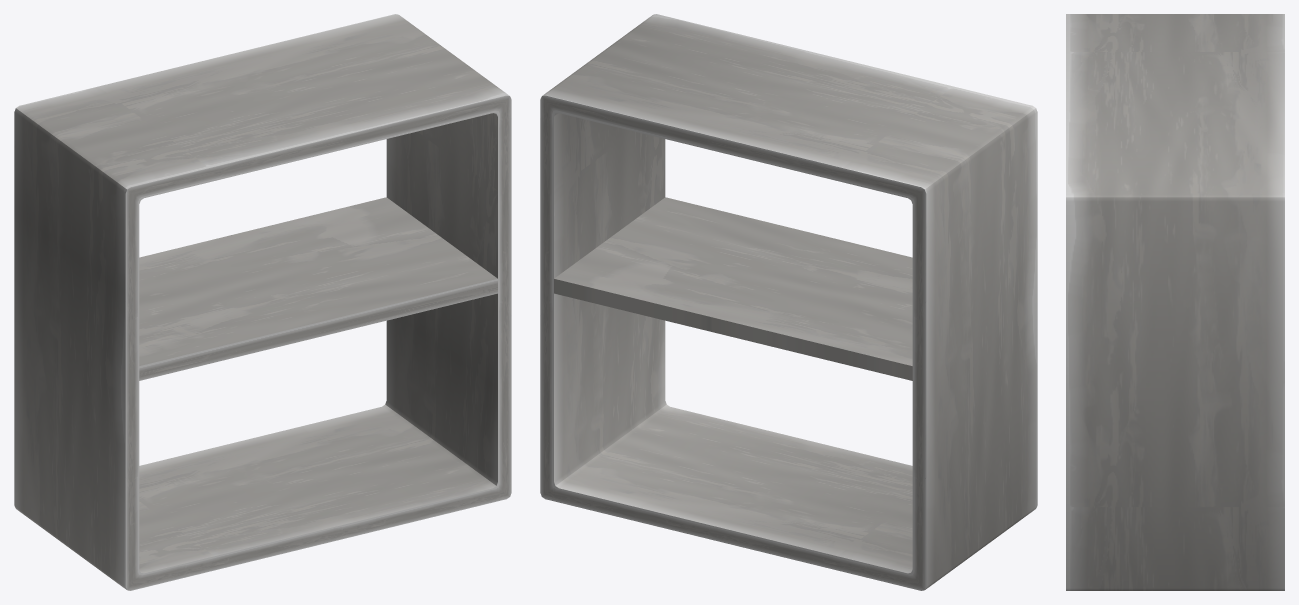
File: Kallax.fbx
3 views of the same model, side by side, from view 1: azimuth 30°, elevation 25°; view 2: azimuth 150°, elevation 25°; view 3: azimuth 270°, elevation 25° (orthographic).
Visible parts, largest first — view 1: Cube; view 2: Cube; view 3: Cube.
Boxes of the visible parts, x1=… form: Cube: x1=14, y1=14, x2=511, y2=590; Cube: x1=540, y1=14, x2=1037, y2=590; Cube: x1=1066, y1=14, x2=1284, y2=590.
Size of the model in its own units: 200 by 200 by 100.
